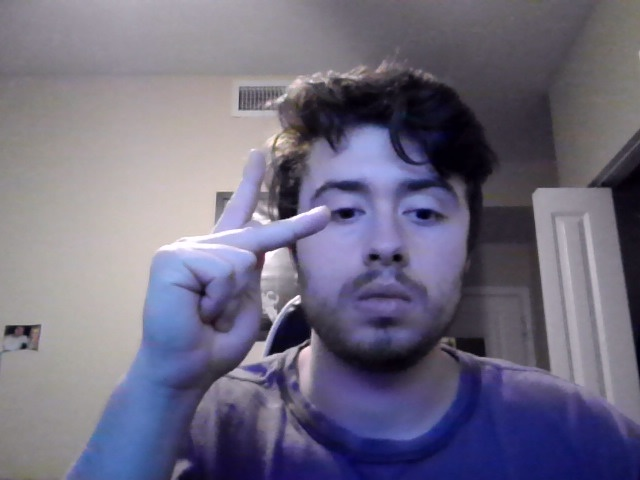k: (140, 148, 331, 408)
